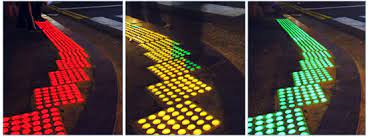guide_blocks: (137, 77, 220, 133), (6, 87, 83, 135), (250, 86, 327, 132), (35, 21, 86, 85), (276, 19, 324, 51), (143, 51, 201, 75), (291, 53, 334, 85), (128, 24, 179, 49)
